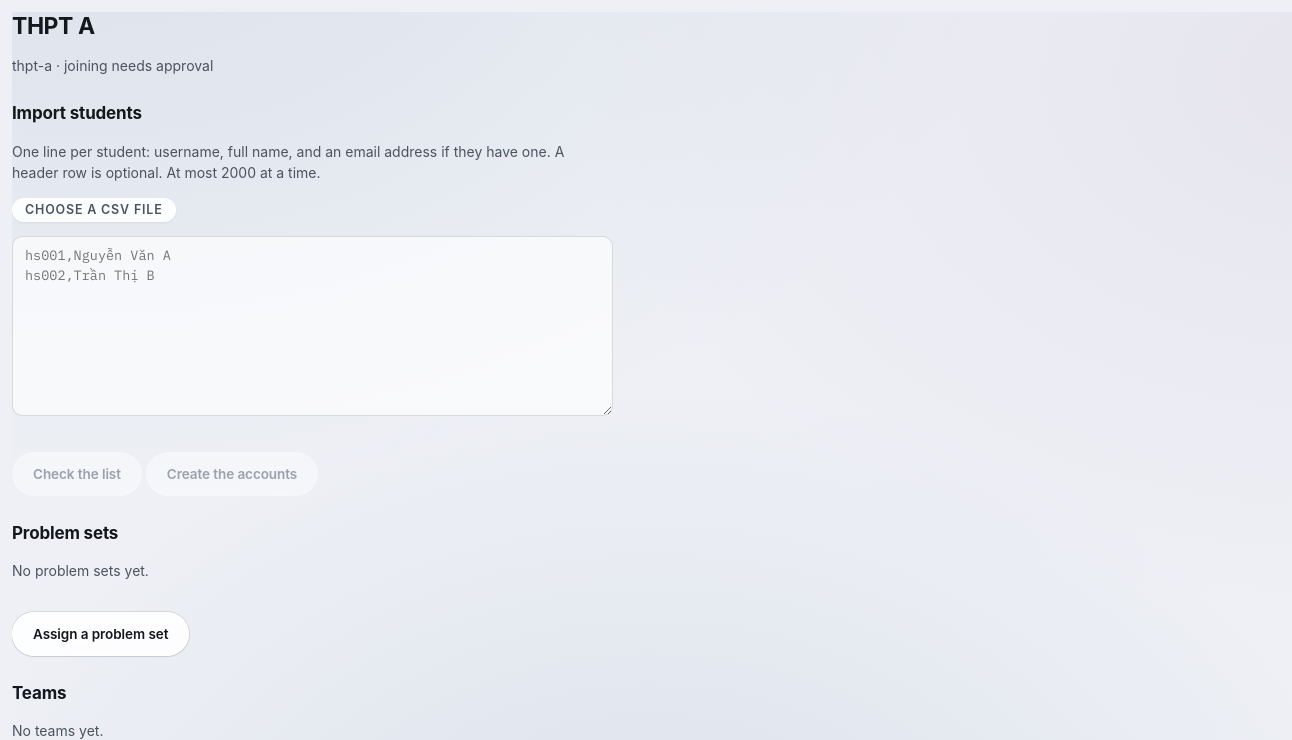
Scenario: the roster import panel › renders a 422 row by row, not as one sentence
Check: the heading "Import students" is shown, box 12,103 -> 142,123
Type "x,y" into the text box named "Student list" at [312, 326], box 12,236 -> 613,416
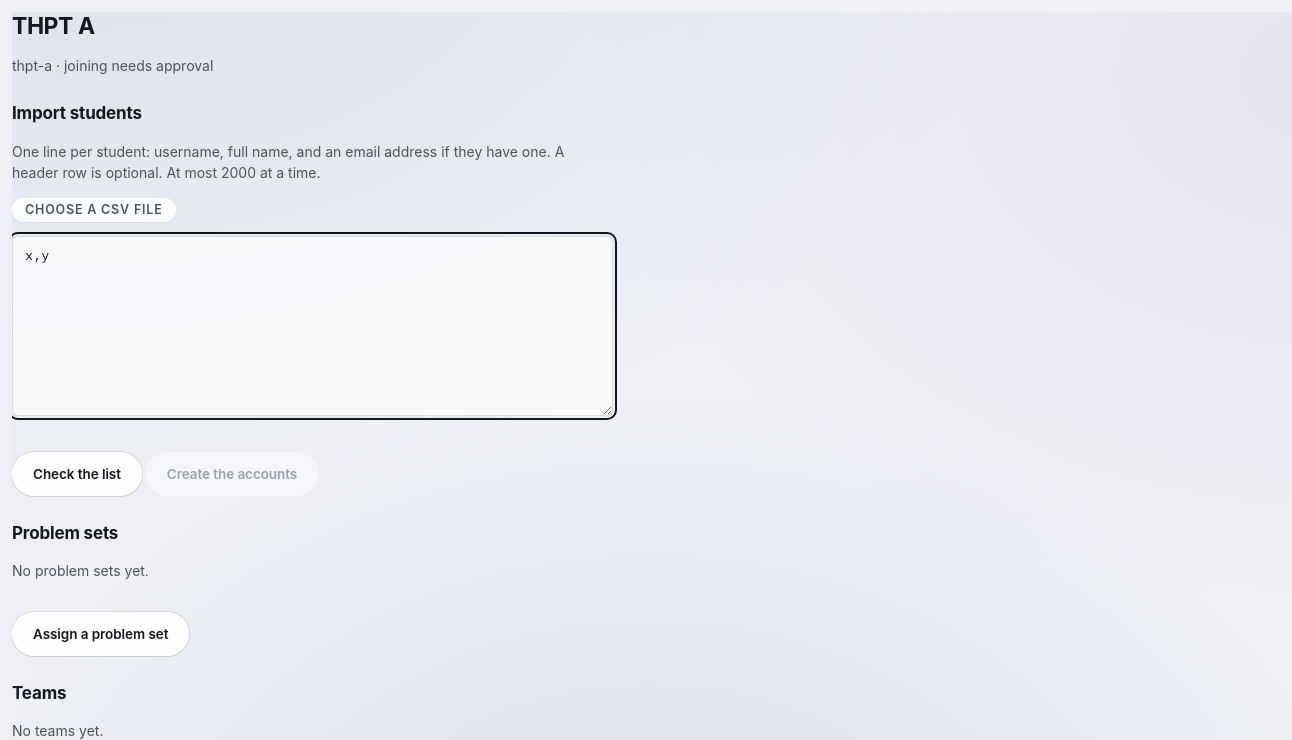
Click the button "Check the list" at [77, 474], box 12,452 -> 142,496
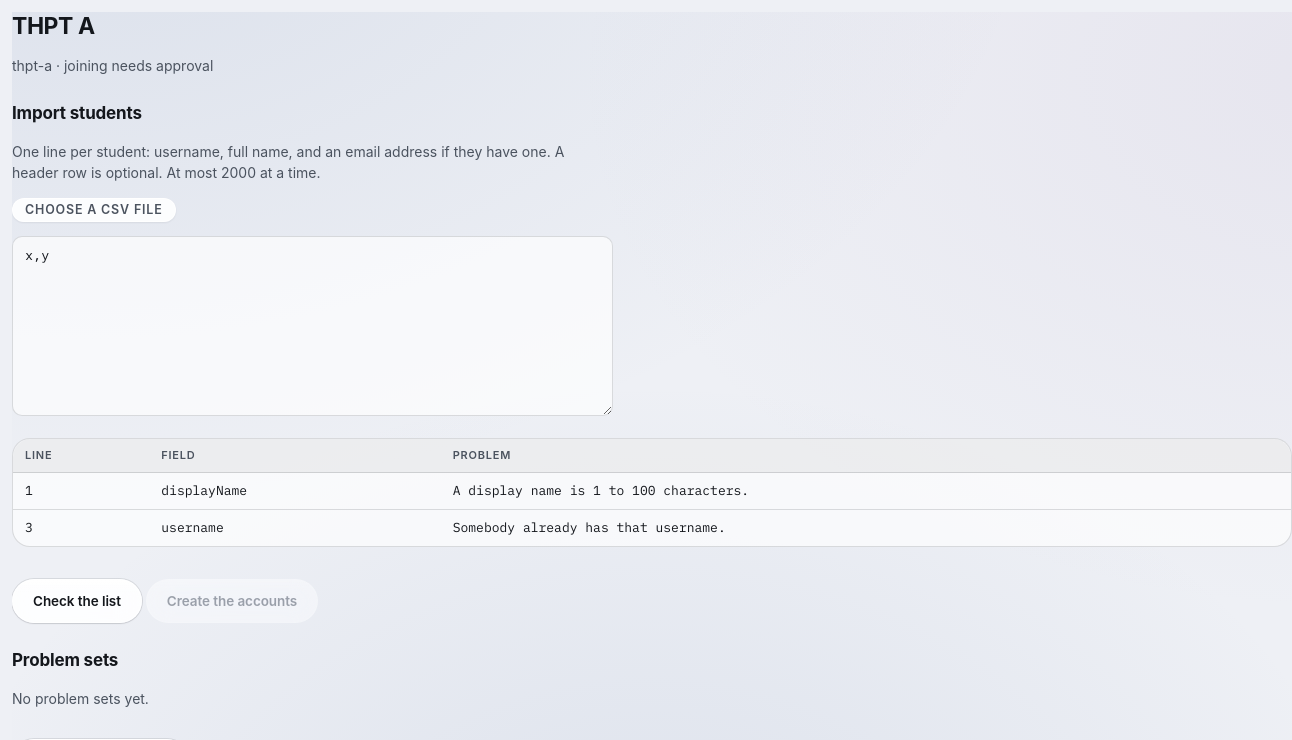
Check: the button "Create the accounts" is disabled, box 146,579 -> 318,623
Check: the text "Somebody already has that username." is shown, box 441,510 -> 1291,546
Check: the text "A display name is 1 to 100 characters." is shown, box 441,473 -> 1291,510
